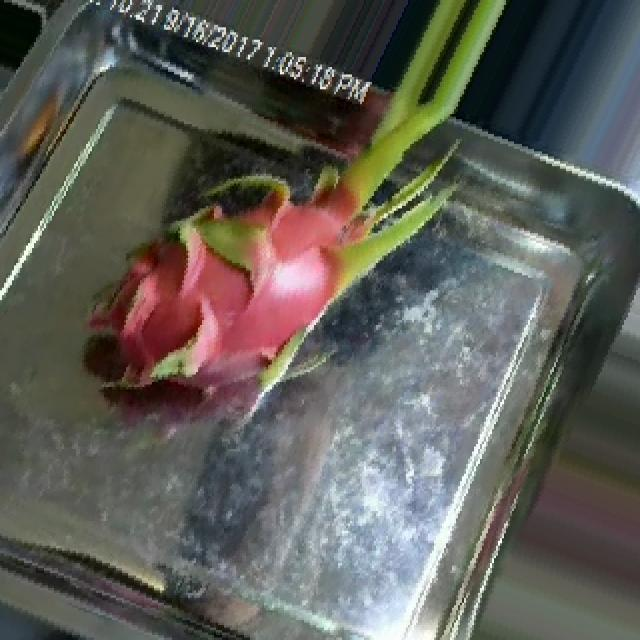Fruit: (0, 0, 92, 92)
